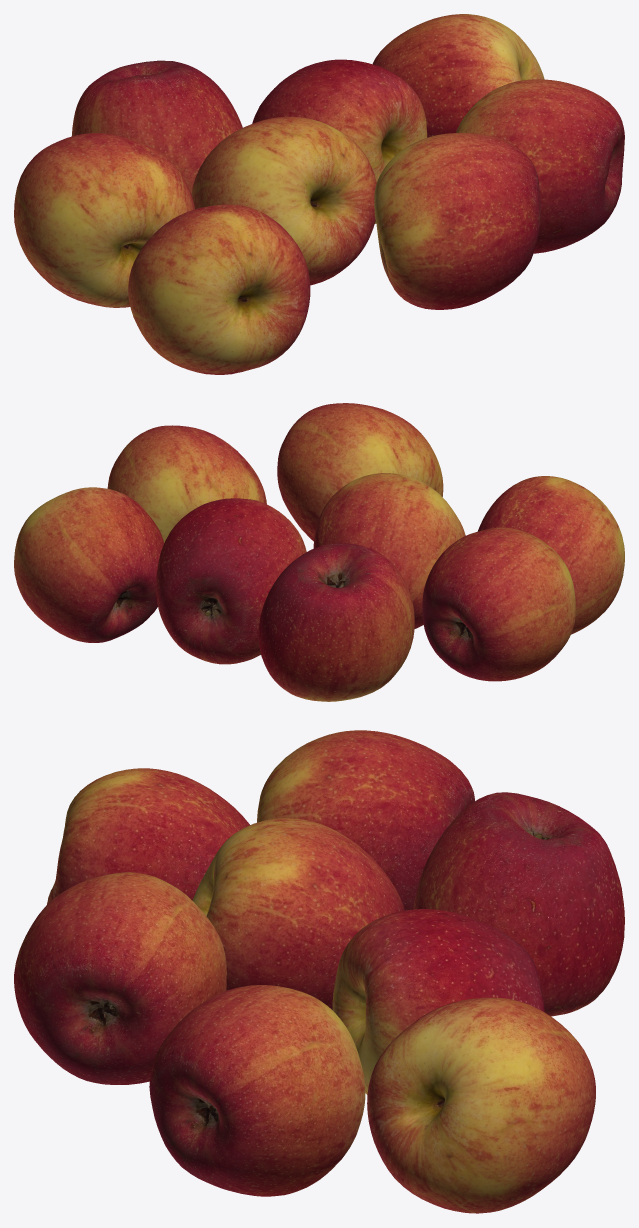
Rendered from apples-macas.glb.
3 renders of one model, top to bottom at view 1: azimuth 30°, elevation 25°; view 2: azimuth 150°, elevation 25°; view 3: azimuth 270°, elevation 25°, orthographic. The views are drawn at different scales.
Parts seen in each view (by area): view 1: apple_mesh.005_5, apple_mesh.006_6, apple_mesh_0, apple_mesh.002_2, apple_mesh.008_7, apple_mesh.001_1, apple_mesh.004_4, apple_mesh.003_3; view 2: apple_mesh.001_1, apple_mesh_0, apple_mesh.004_4, apple_mesh.003_3, apple_mesh.006_6, apple_mesh.002_2, apple_mesh.005_5, apple_mesh.008_7; view 3: apple_mesh.004_4, apple_mesh.008_7, apple_mesh.006_6, apple_mesh.001_1, apple_mesh.002_2, apple_mesh_0, apple_mesh.003_3, apple_mesh.005_5.
Part boxes in pixels (x1,y1,x2,y2): apple_mesh.005_5: [128, 204, 310, 374]; apple_mesh.006_6: [374, 132, 541, 309]; apple_mesh_0: [14, 133, 194, 307]; apple_mesh.002_2: [191, 116, 376, 285]; apple_mesh.008_7: [456, 79, 624, 253]; apple_mesh.001_1: [71, 60, 242, 194]; apple_mesh.004_4: [372, 14, 544, 137]; apple_mesh.003_3: [252, 59, 427, 223]; apple_mesh.001_1: [258, 543, 414, 701]; apple_mesh_0: [422, 527, 575, 681]; apple_mesh.004_4: [14, 487, 164, 642]; apple_mesh.003_3: [156, 498, 306, 664]; apple_mesh.006_6: [277, 403, 443, 541]; apple_mesh.002_2: [313, 473, 465, 629]; apple_mesh.005_5: [477, 476, 624, 634]; apple_mesh.008_7: [107, 425, 266, 542]; apple_mesh.004_4: [367, 997, 595, 1213]; apple_mesh.008_7: [149, 985, 365, 1196]; apple_mesh.006_6: [14, 872, 226, 1084]; apple_mesh.001_1: [413, 792, 624, 1016]; apple_mesh.002_2: [192, 818, 404, 1009]; apple_mesh_0: [257, 730, 474, 910]; apple_mesh.003_3: [332, 909, 544, 1094]; apple_mesh.005_5: [47, 768, 249, 904].
Bounding box in the file's own units: 4.53 × 1.4 × 3.45.
Materials: 1 (1 with a texture image).
